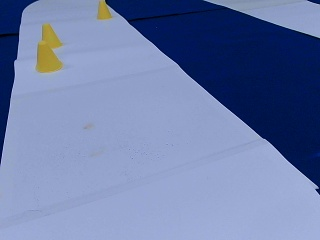cone: (34, 40, 61, 72), (40, 23, 61, 48), (97, 1, 110, 19)
